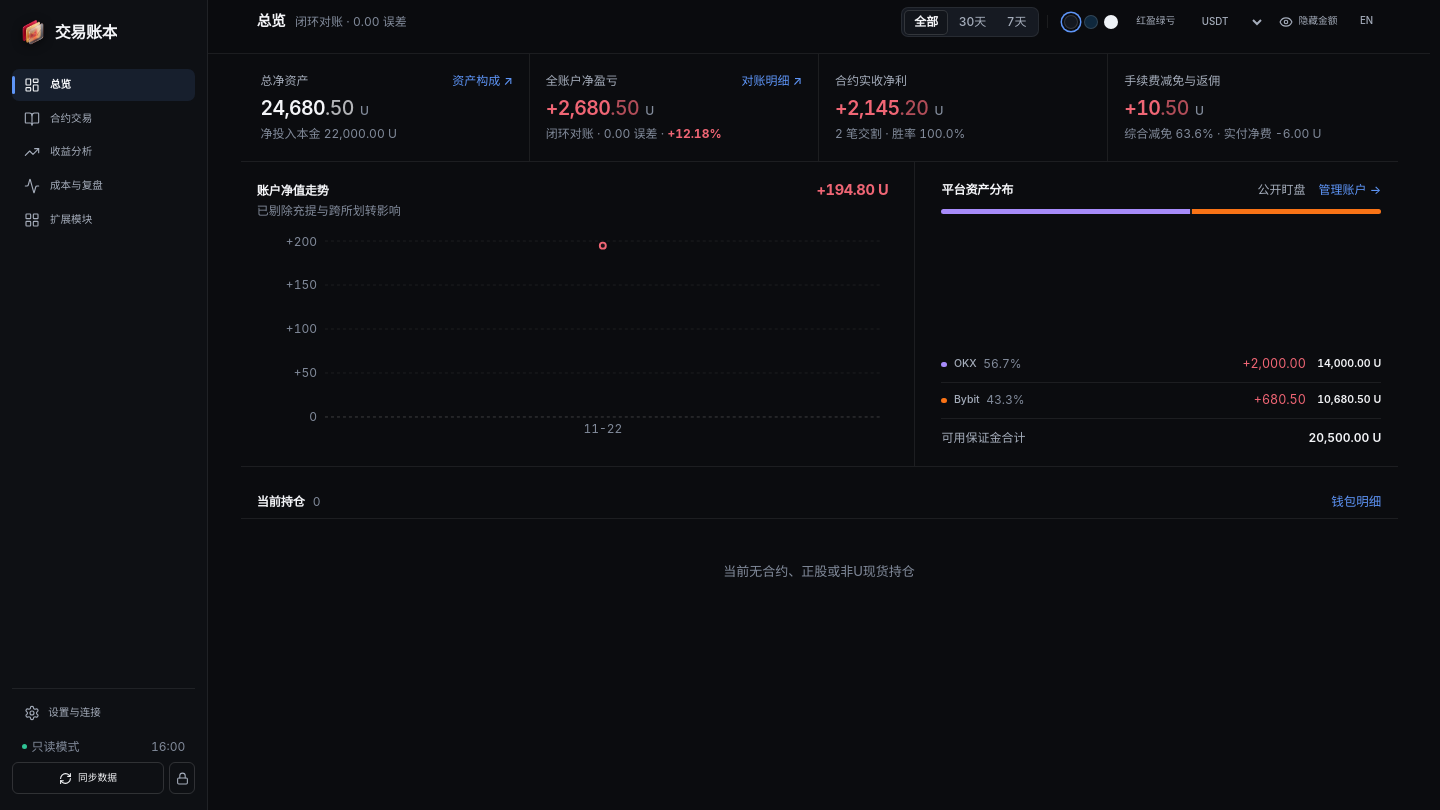
Test: ledger access and settings races › keeps a requested lock through focus and reload if logout could not reach the server
Later steps or results of the test are not shown.
Expected: the button with test id "kpi-equity" is shown, x1=240 y1=54 x2=530 y2=161
Click the button with test id "sidebar-lock-btn" at (182, 778), box x1=169 y1=762 x2=195 y2=794
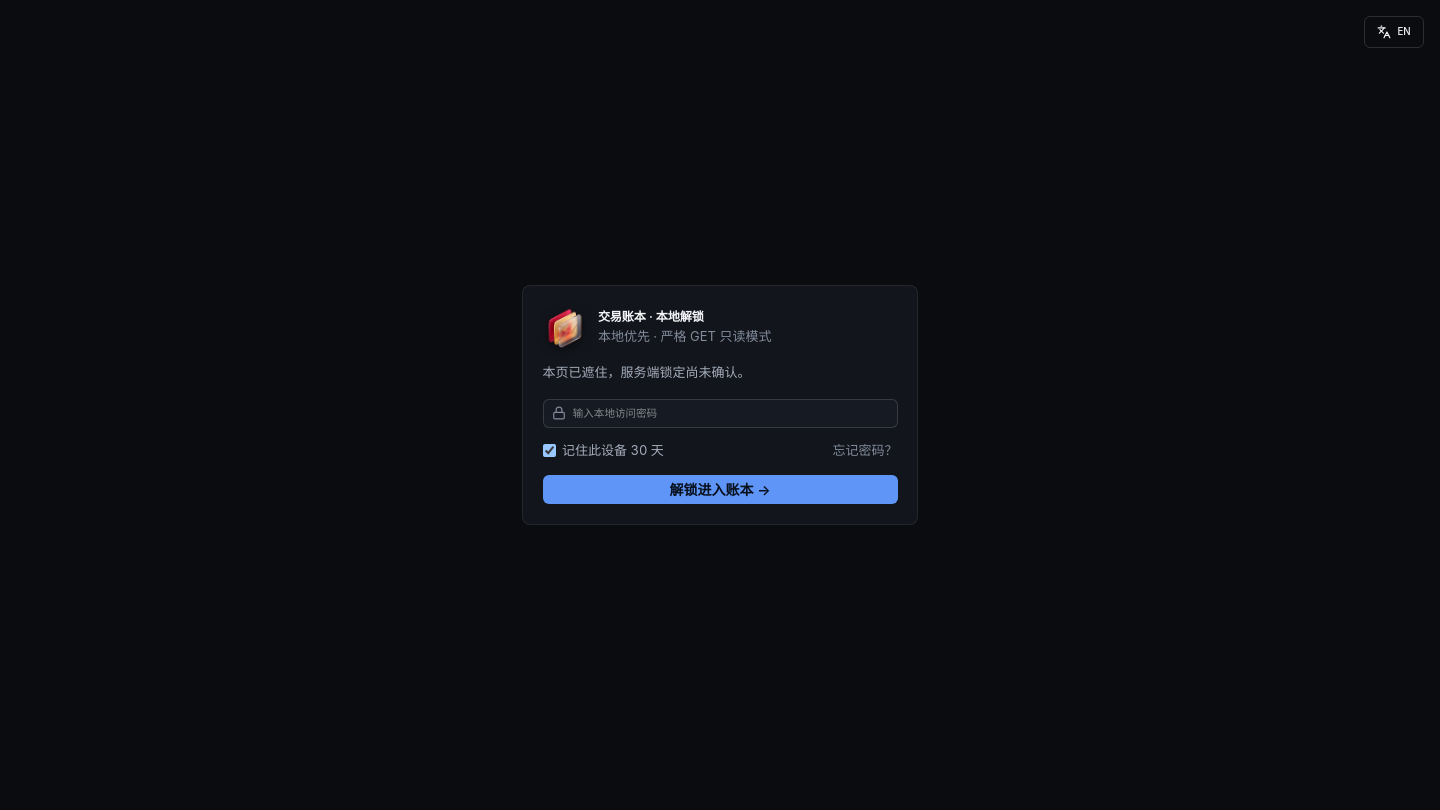
Expected: the text "本页已遮住，服务端锁定尚未确认。" is shown, x1=542 y1=364 x2=750 y2=380
